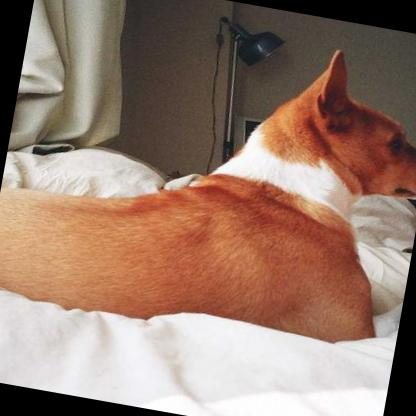basenji: (0, 0, 416, 362)
